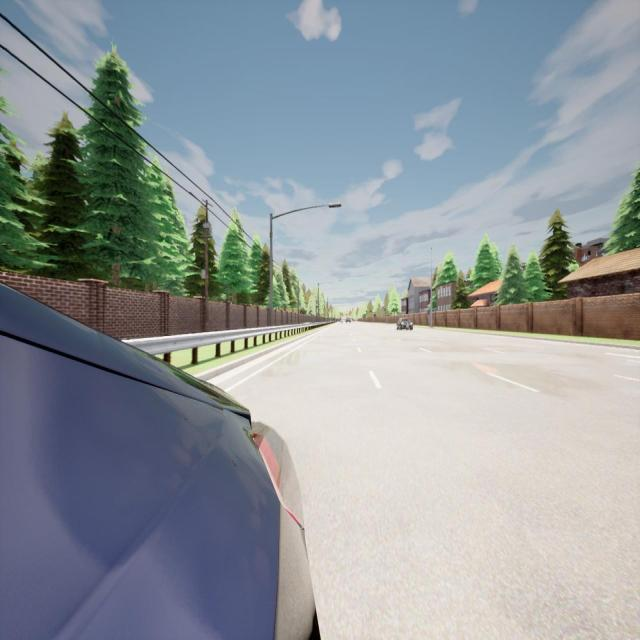Vehicle: (0, 284, 319, 638), (396, 318, 414, 330), (345, 316, 351, 325)
